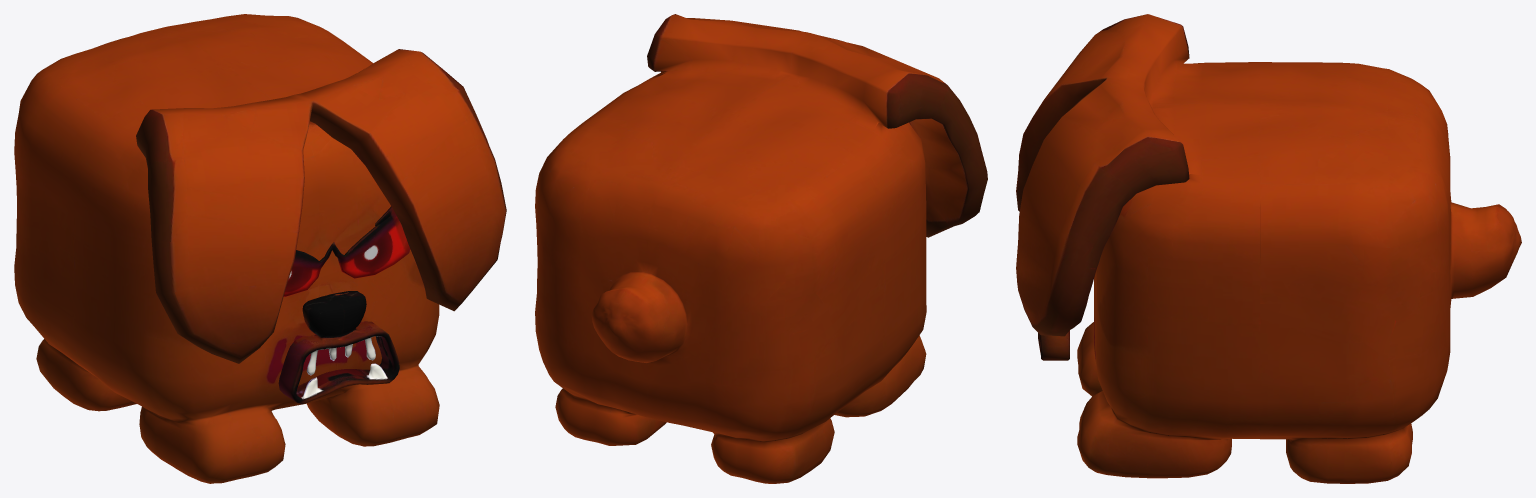
The model's file is cube_dog_basic.obj.
3 views of the same model, side by side, from view 1: azimuth 30°, elevation 25°; view 2: azimuth 150°, elevation 25°; view 3: azimuth 270°, elevation 25° (orthographic). The views are drawn at different scales.
Parts seen in each view (by area): view 1: cube_dog_basic; view 2: cube_dog_basic; view 3: cube_dog_basic.
Part boxes in pixels (x1,y1,x2,y2): cube_dog_basic: (14,14,506,483); cube_dog_basic: (535,14,987,483); cube_dog_basic: (1016,14,1521,483).
Size of the model in its own units: 1.47 by 1.46 by 1.91.
1 material, 1 textured.
